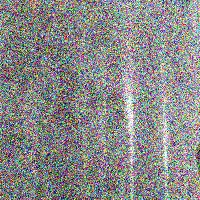scratches: (120, 52, 139, 196), (159, 88, 172, 197)
